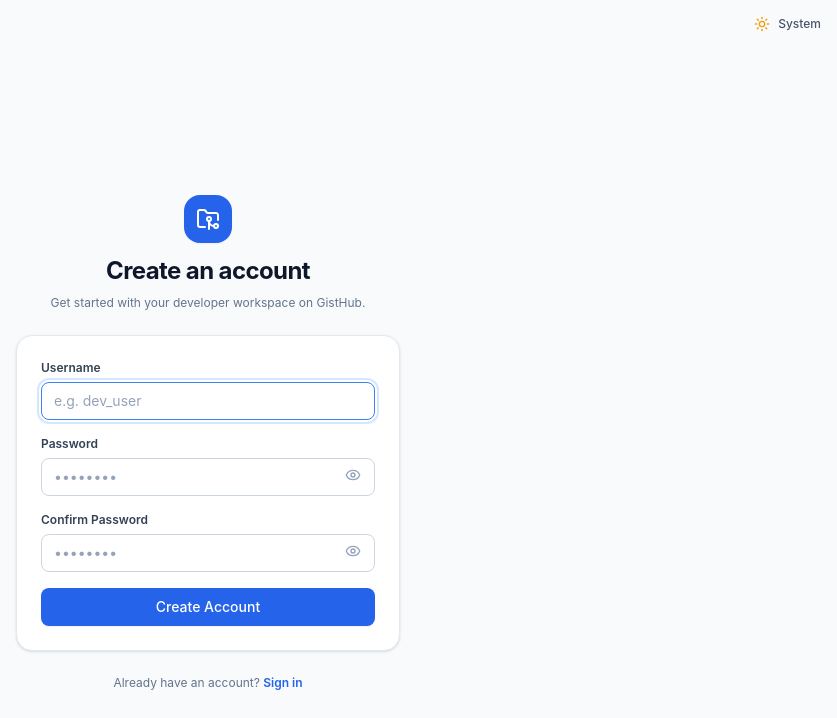
Test: GistHub Authentication Workflow › displays validation error when passwords do not match during registration
Type "newuser" into the field labelled "Username" at (208, 401), box [41, 382, 375, 420]
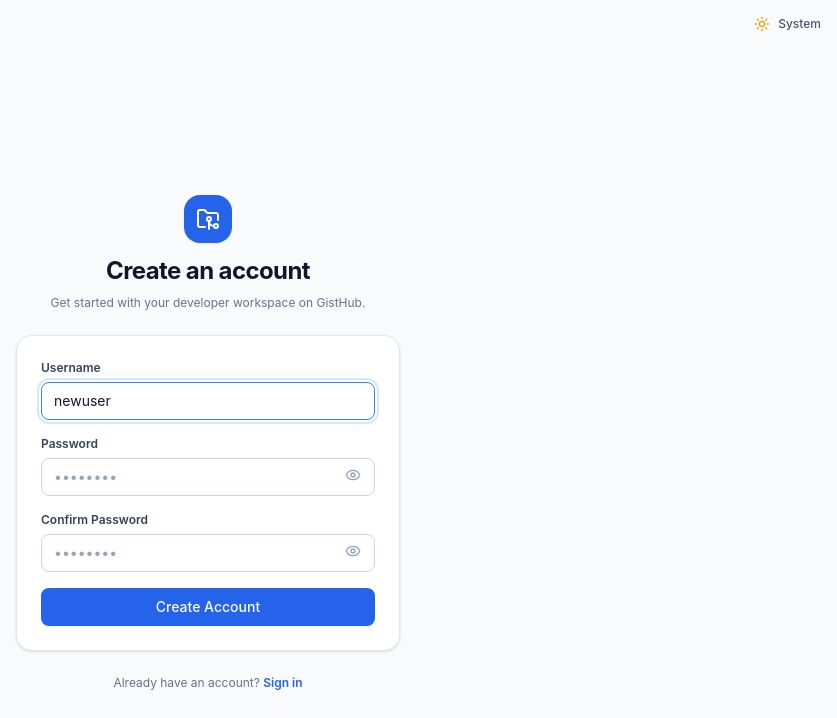
Type "password123" into the password field with placeholder "••••••••" at (208, 477), box [41, 458, 375, 496]
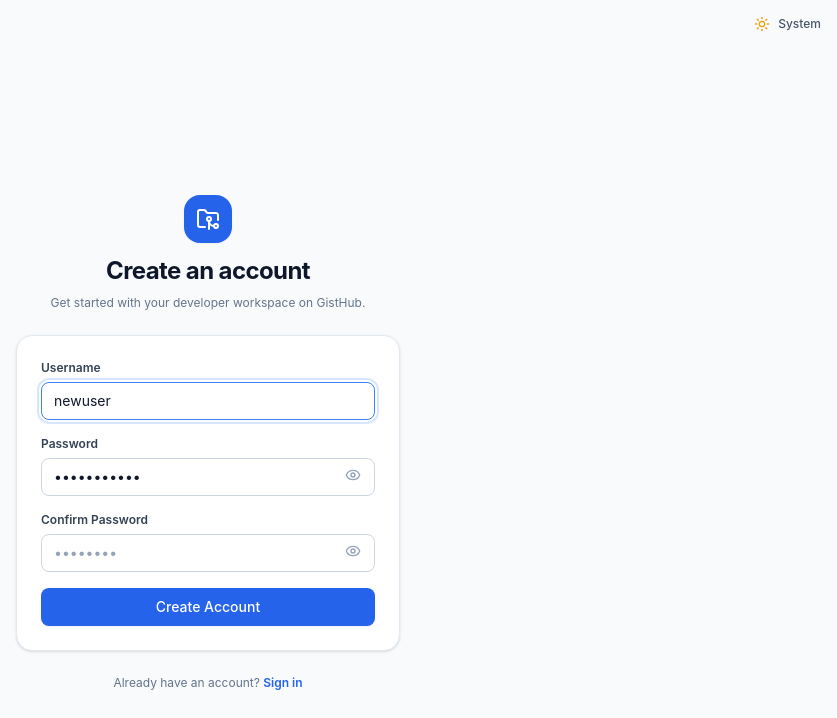
Type "mismatchedPassword" into the password field with placeholder "••••••••" at (208, 553), box [41, 534, 375, 572]
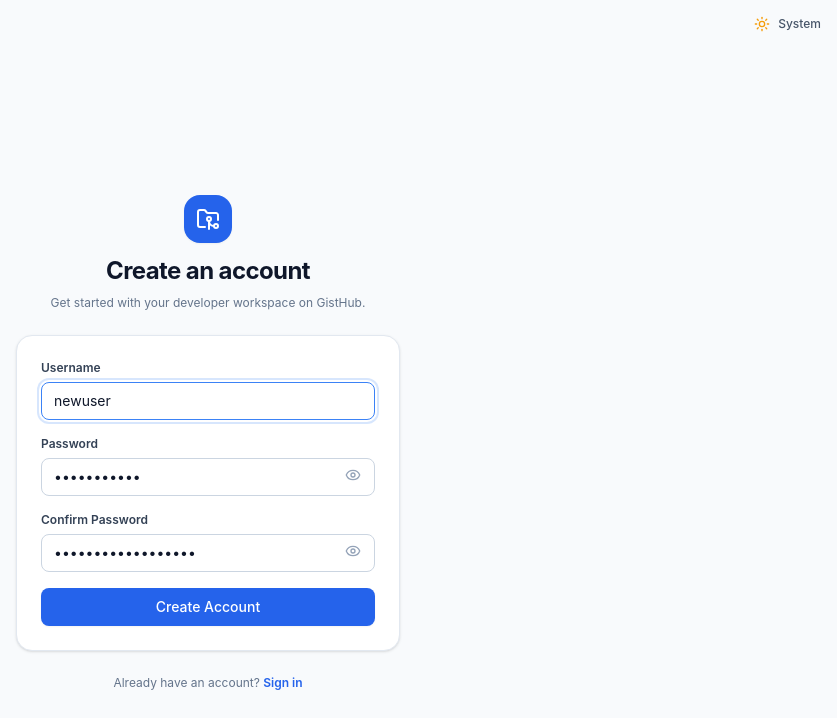
Click the button "Create Account" at (208, 607), box [41, 588, 375, 626]
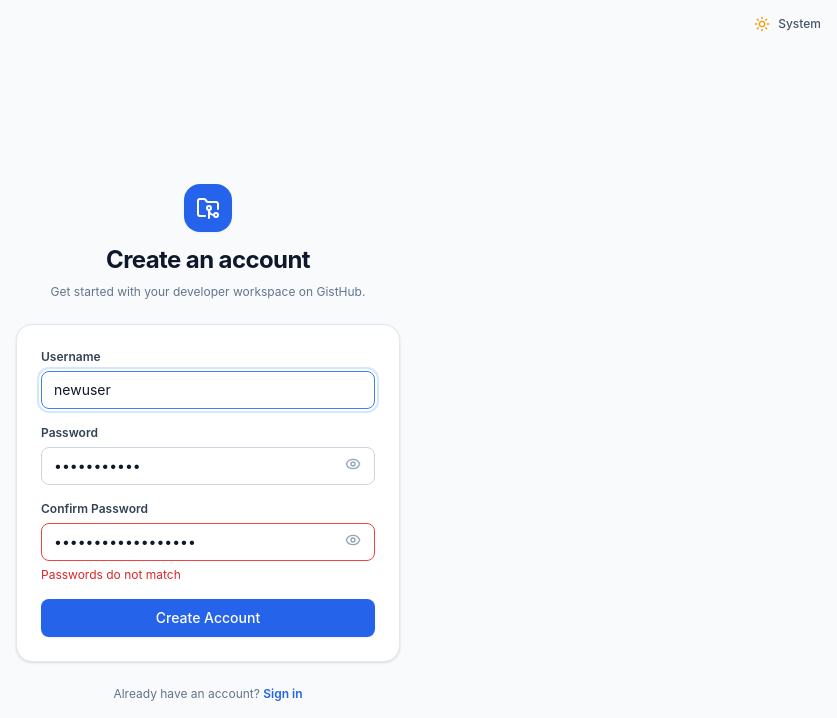
Now the text "Passwords do not match" is shown, box [41, 567, 181, 582]
